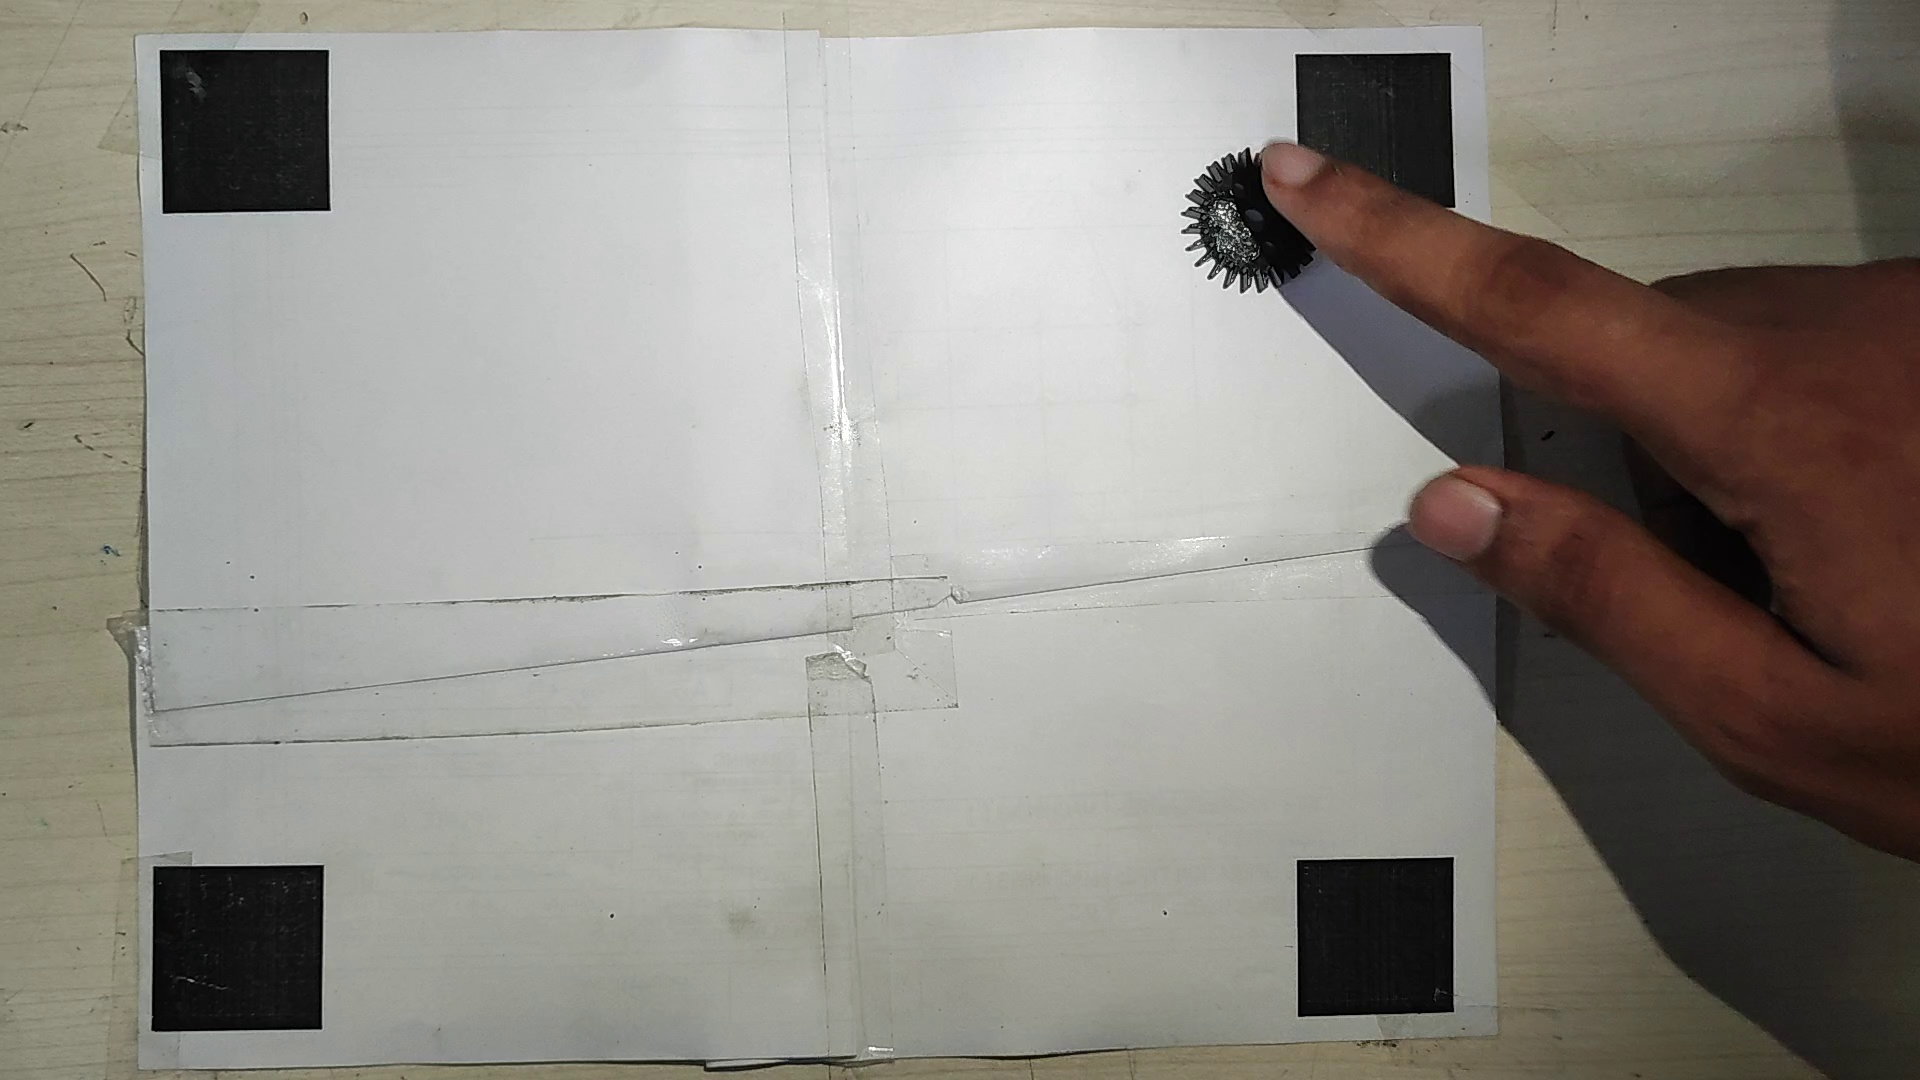Gear: (1176, 142, 1323, 298)
